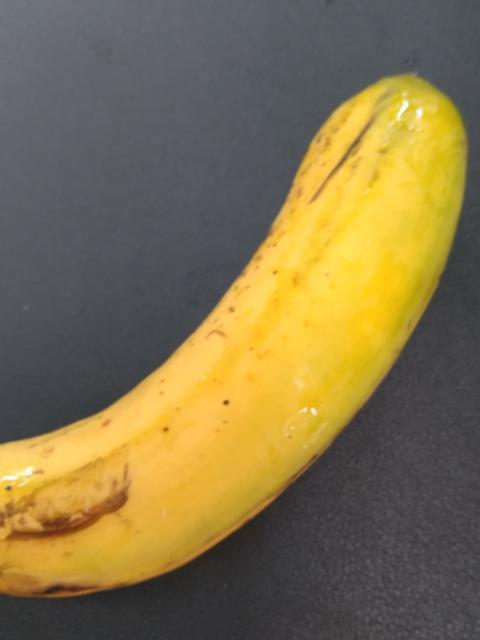ripe: (0, 72, 475, 616)
